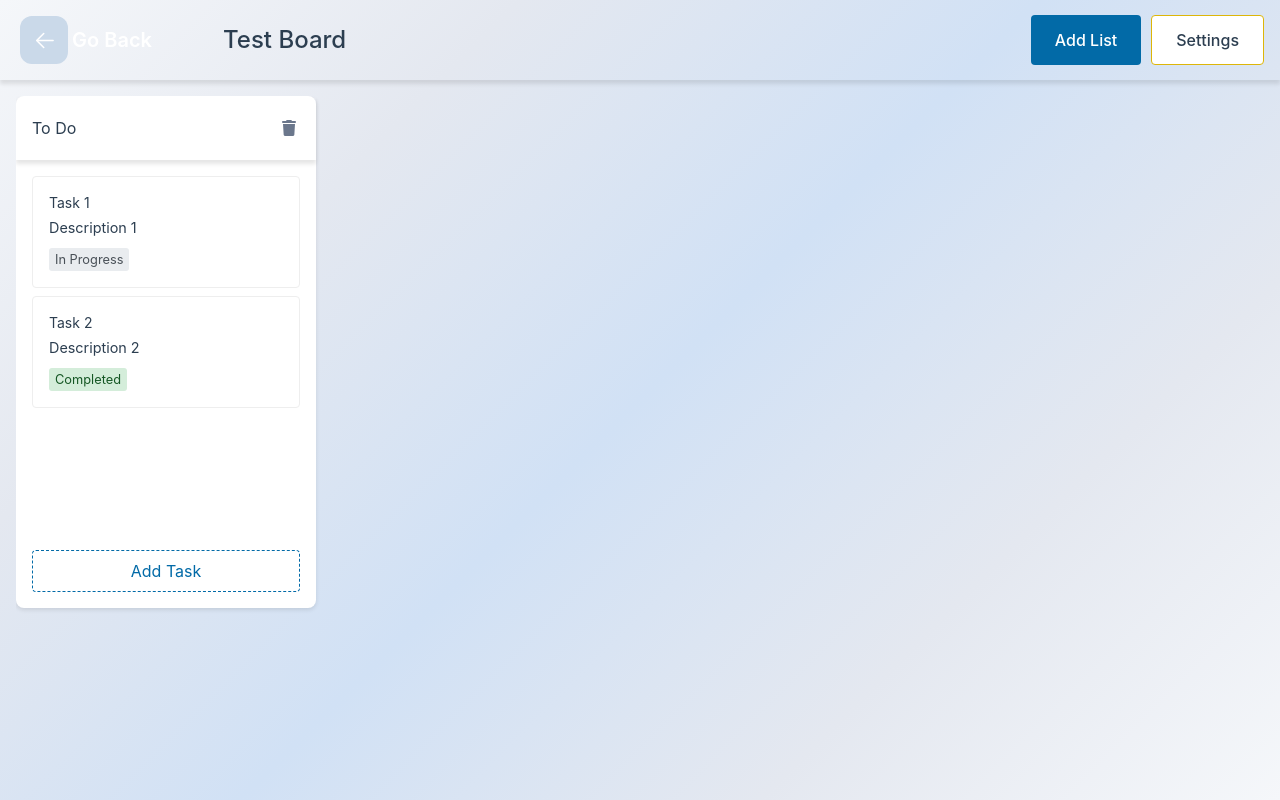
Scenario: Task Functionality in Board.vue › opens edit task modal when task is clicked
What coordinates should you click on to do the following:
click the element with class "task" that starts with "Task 1"
I would click on:
 (166, 232)
Its box is left=32, top=176, right=300, bottom=288.
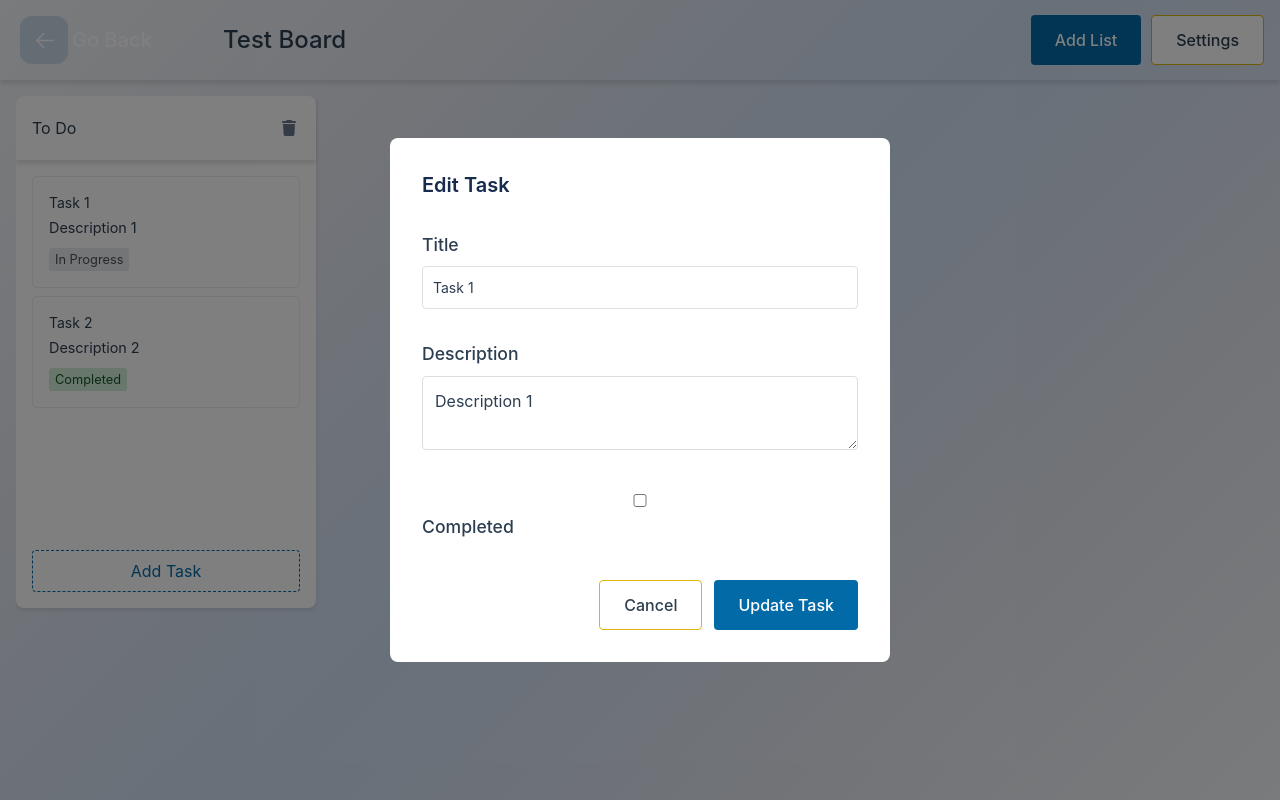
Expected: the heading "Edit Task" is shown, left=422, top=173, right=510, bottom=197
Expected: the field holds "Task 1", left=422, top=266, right=858, bottom=309
Expected: the text box holds "Description 1", left=422, top=376, right=858, bottom=450
